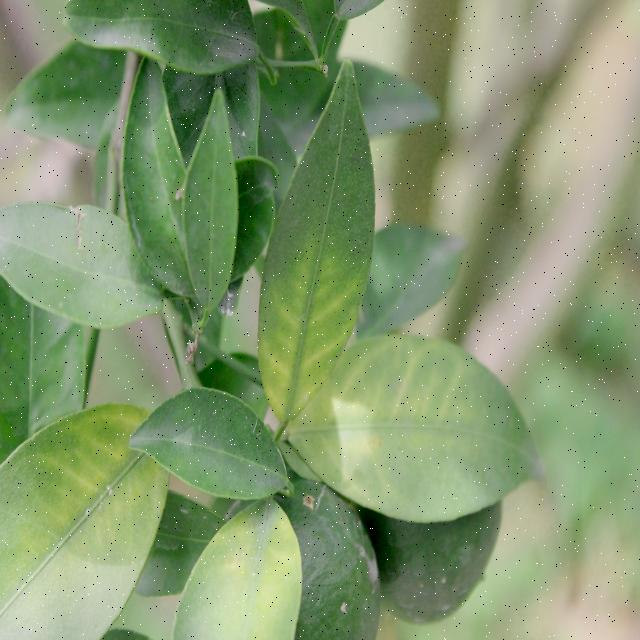greening: (306, 342, 537, 506), (0, 406, 156, 640), (264, 67, 363, 407), (196, 511, 302, 640)
